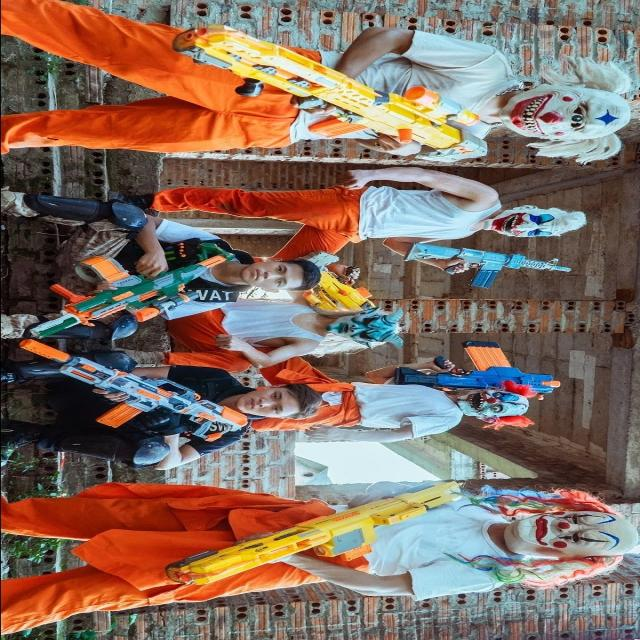Nerf gun: (162, 17, 488, 164), (156, 474, 477, 590), (25, 337, 256, 445), (17, 236, 240, 347), (389, 333, 573, 407), (397, 236, 577, 297), (294, 246, 374, 318)
